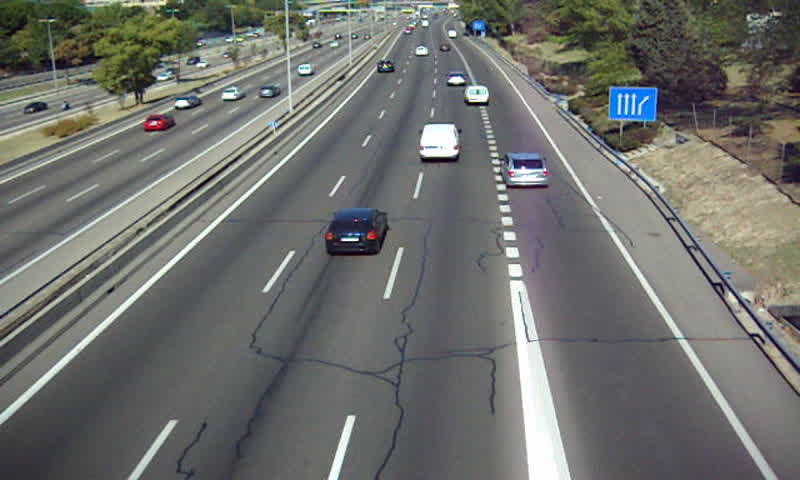car: (325, 209, 387, 255), (501, 152, 549, 186), (447, 72, 466, 87), (376, 59, 394, 74), (412, 44, 431, 57)
van: (419, 123, 458, 161), (463, 85, 490, 106)
